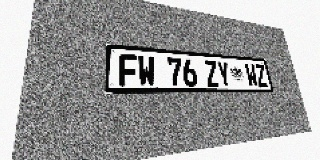6: (181, 58, 198, 87)
7: (166, 57, 184, 86)
F: (119, 54, 138, 86)
W: (137, 55, 156, 86), (244, 63, 259, 87)
Y: (216, 61, 232, 87)
Z: (204, 60, 220, 87), (254, 64, 268, 87)
